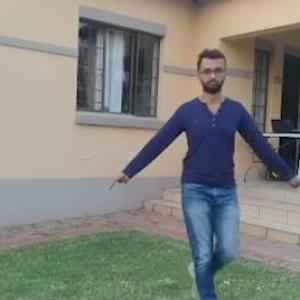land: (122, 75, 271, 293)
